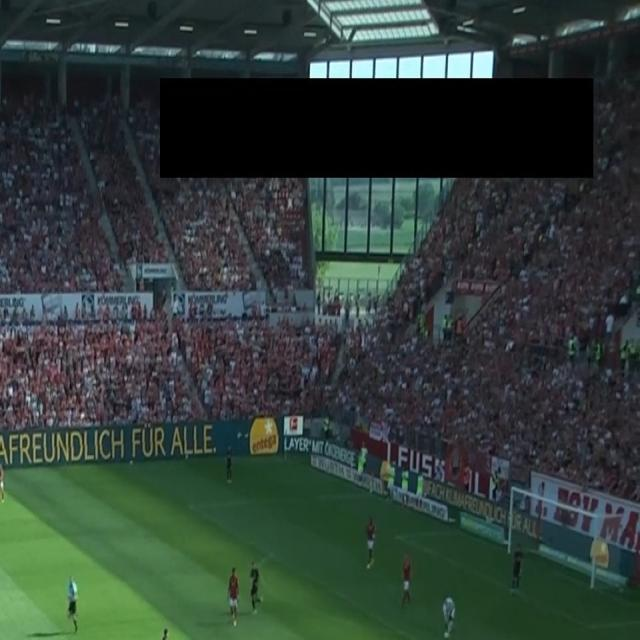ball: (444, 630, 448, 639)
